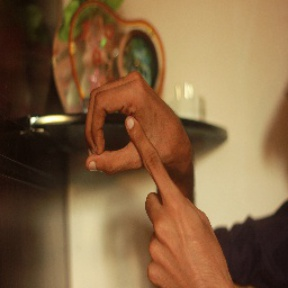Q: (79, 65, 215, 230)
